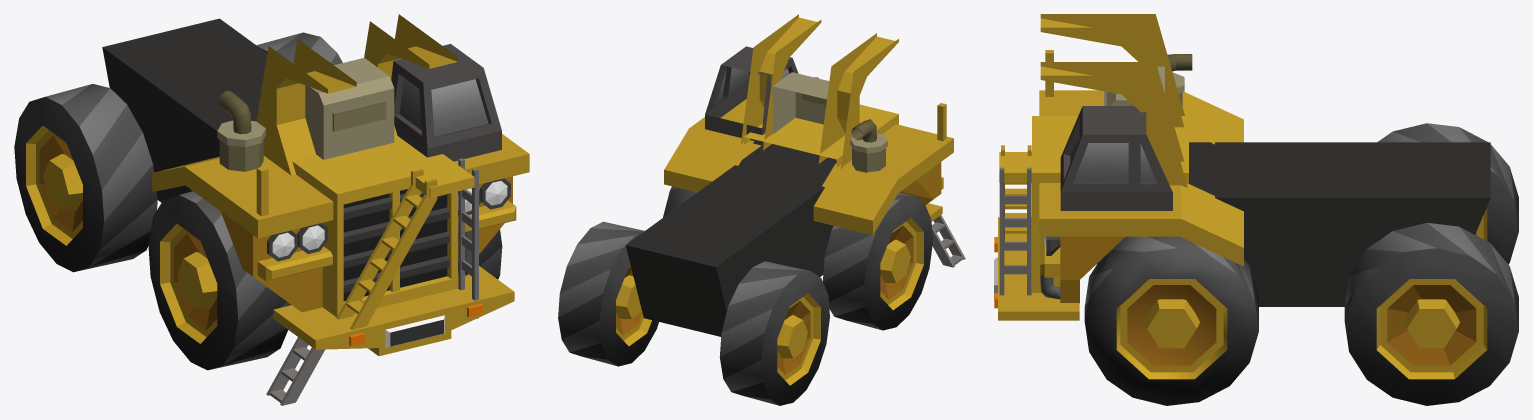
Rendered from head_SP5_1.fbx.
3 renders of one model, left to right at view 1: azimuth 30°, elevation 25°; view 2: azimuth 150°, elevation 25°; view 3: azimuth 270°, elevation 25°, orthographic. The views are drawn at different scales.
Parts seen in each view (by area): view 1: head_SP5_1; view 2: head_SP5_1; view 3: head_SP5_1.
Part boxes in pixels (x1,y1,x2,y2): head_SP5_1: (14, 14, 529, 405); head_SP5_1: (558, 14, 965, 405); head_SP5_1: (994, 14, 1518, 405).
Bounding box in the file's own units: 1872 × 2015 × 3209.
